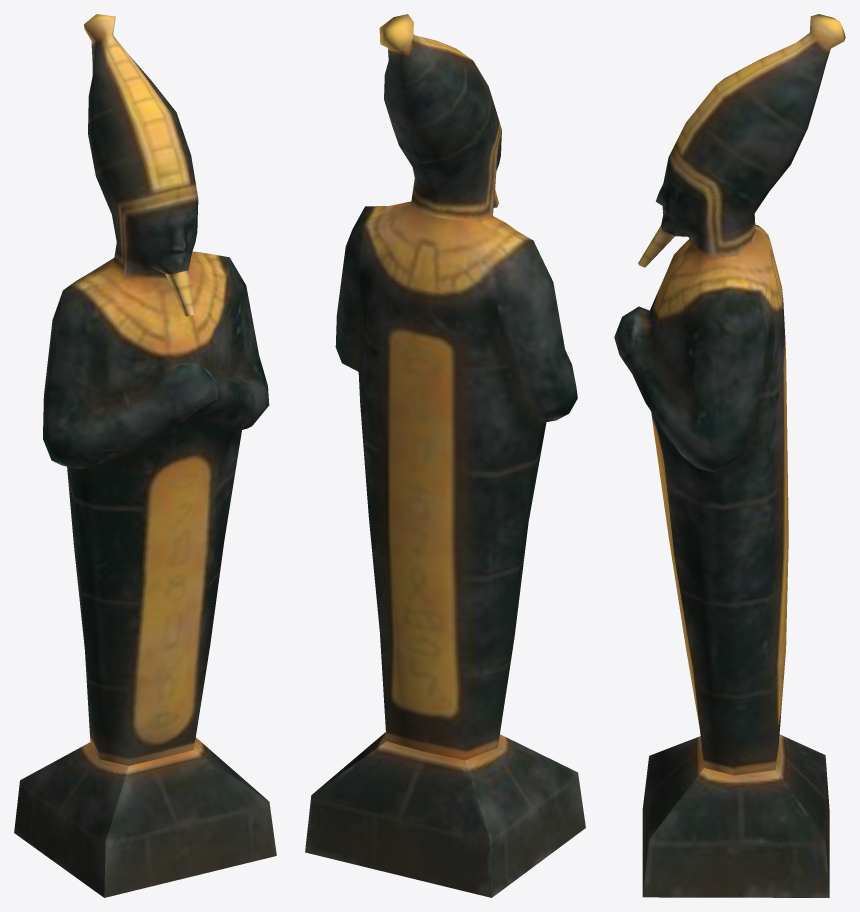
Rendered from 126-monumenttosoldiers.glb.
The picture shows the model from 3 angles, left to right: view 1: azimuth 30°, elevation 25°; view 2: azimuth 150°, elevation 25°; view 3: azimuth 270°, elevation 25°; orthographic projection. The views are drawn at different scales.
Size of the model in its own units: 1.49 by 5.21 by 1.31.
1 material, 1 textured.
